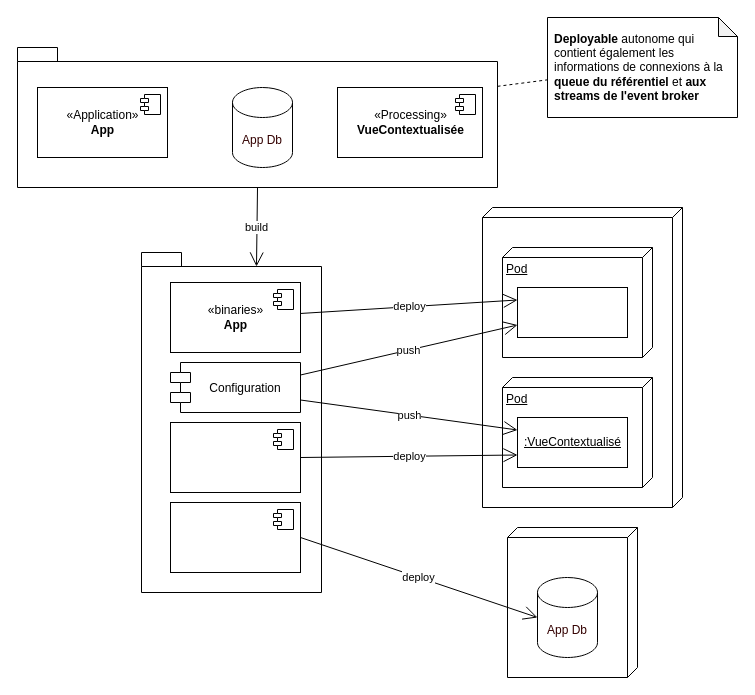
Some shapes in this 755 by 695 pixel diagram are drawn without their labels. Here are the shapes that lost their labels. From the top down, the box of each, then its label:
(516, 286, 628, 338): :App
(482, 206, 682, 508): Container Platform
(170, 422, 300, 492): «binaries» VueContextualisé
(170, 502, 300, 572): «script» Dacpac
(506, 526, 638, 678): Saas Platform
